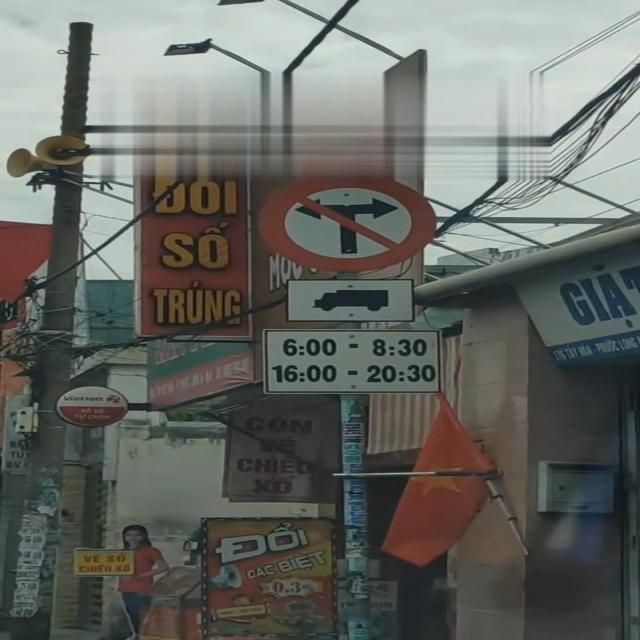137-cam-re-trai-va-re-phai: (257, 172, 440, 273)
